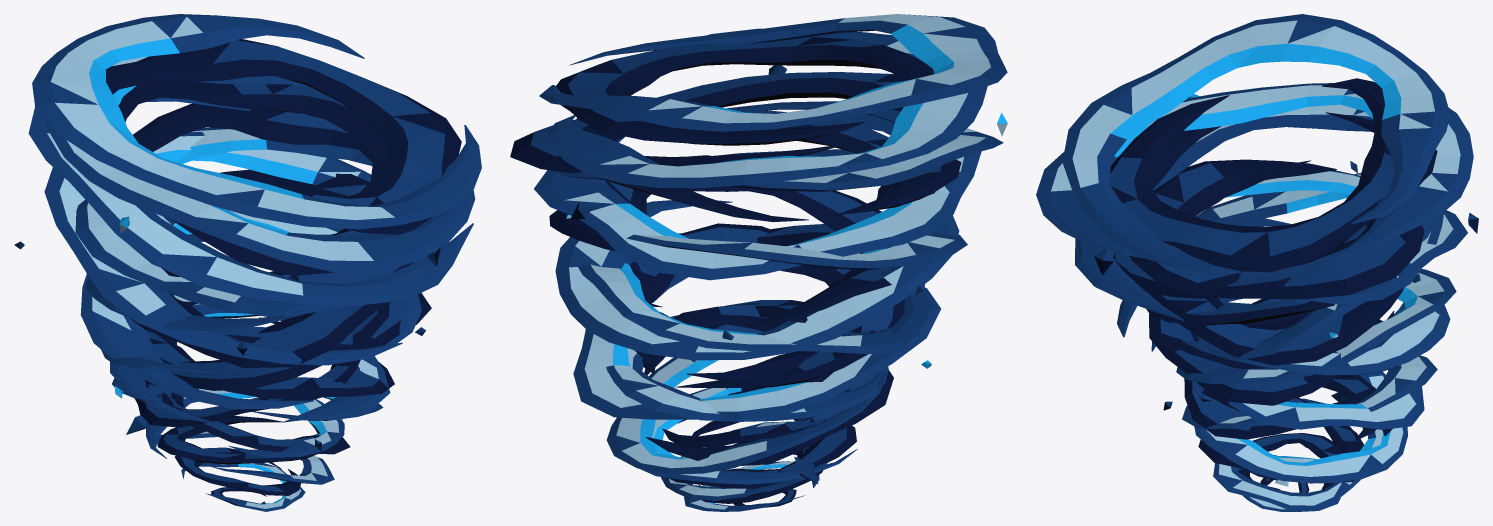
Rendered from Supertornado.fbx.
3 renders of one model, left to right at view 1: azimuth 30°, elevation 25°; view 2: azimuth 150°, elevation 25°; view 3: azimuth 270°, elevation 25°, orthographic. The views are drawn at different scales.
Visible parts, largest first — view 1: Wind_Ribbon_26, Wind_Ribbon_25, Wind_Ribbon_22.001, Wind_Ribbon_24, Wind_Ribbon_18.001, Wind_Ribbon_20.001, Wind_Ribbon_23, Wind_Ribbon_21.001, Wind_Ribbon_14.002, Wind_Ribbon_17.001, Wind_Ribbon_11.002, Wind_Ribbon_10.003 (+12 smaller); view 2: Wind_Ribbon_26, Wind_Ribbon_20.001, Wind_Ribbon_24, Wind_Ribbon_25, Wind_Ribbon_16.002, Wind_Ribbon_12.002, Wind_Ribbon_23, Wind_Ribbon_08.003, Wind_Ribbon_14.002, Wind_Ribbon_18.001, Wind_Ribbon_22.001, Wind_Ribbon_13.002 (+13 smaller); view 3: Wind_Ribbon_26, Wind_Ribbon_25, Wind_Ribbon_24, Wind_Ribbon_19.001, Wind_Ribbon_23, Wind_Ribbon_22.001, Wind_Ribbon_18.001, Wind_Ribbon_08.003, Wind_Ribbon_14.002, Wind_Ribbon_20.001, Wind_Ribbon_16.002, Wind_Ribbon_12.002 (+11 smaller).
Part boxes in pixels (x1,y1,x2,y2): Wind_Ribbon_26: (32,14,481,229); Wind_Ribbon_25: (106,39,461,234); Wind_Ribbon_22.001: (28,97,473,305); Wind_Ribbon_24: (46,56,475,272); Wind_Ribbon_18.001: (44,132,402,365); Wind_Ribbon_20.001: (75,127,372,316); Wind_Ribbon_23: (118,82,387,275); Wind_Ribbon_21.001: (133,103,414,283); Wind_Ribbon_14.002: (80,210,421,409); Wind_Ribbon_17.001: (130,173,391,367); Wind_Ribbon_11.002: (145,301,394,398); Wind_Ribbon_10.003: (110,294,390,424); Wind_Ribbon_26: (539,14,1007,131); Wind_Ribbon_20.001: (534,114,981,280); Wind_Ribbon_24: (548,28,987,188); Wind_Ribbon_25: (556,37,934,145); Wind_Ribbon_16.002: (555,200,959,360); Wind_Ribbon_12.002: (573,275,940,419); Wind_Ribbon_23: (510,72,904,173); Wind_Ribbon_08.003: (606,357,887,473); Wind_Ribbon_14.002: (578,233,907,353); Wind_Ribbon_18.001: (626,232,967,270); Wind_Ribbon_22.001: (553,101,1003,191); Wind_Ribbon_13.002: (634,223,904,382); Wind_Ribbon_26: (1062,14,1450,273); Wind_Ribbon_25: (1109,78,1437,272); Wind_Ribbon_24: (1036,83,1473,260); Wind_Ribbon_19.001: (1148,159,1403,365); Wind_Ribbon_23: (1116,112,1424,298); Wind_Ribbon_22.001: (1075,104,1440,320); Wind_Ribbon_18.001: (1117,173,1444,360); Wind_Ribbon_08.003: (1197,371,1407,483); Wind_Ribbon_14.002: (1151,268,1456,384); Wind_Ribbon_20.001: (1111,170,1467,304); Wind_Ribbon_16.002: (1197,218,1450,375); Wind_Ribbon_12.002: (1228,386,1424,429).
Size of the model in its own units: 910 by 950 by 966.
